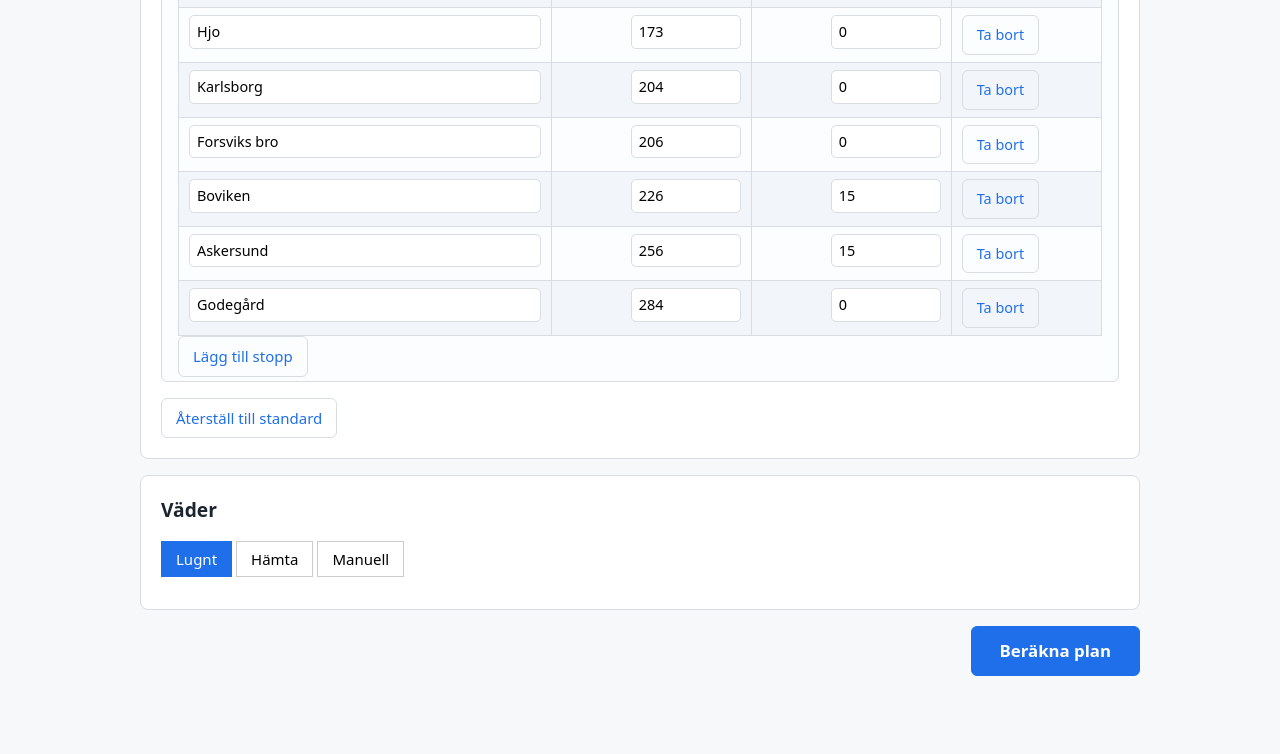
Scenario: App weather panel › shows the weather modes and a manual constant entry
The width and height of the screenshot is (1280, 754).
(page scrolled)
Click the button "Manuell" at x=361, y=559, box [317,541,404,577]
(page scrolled)
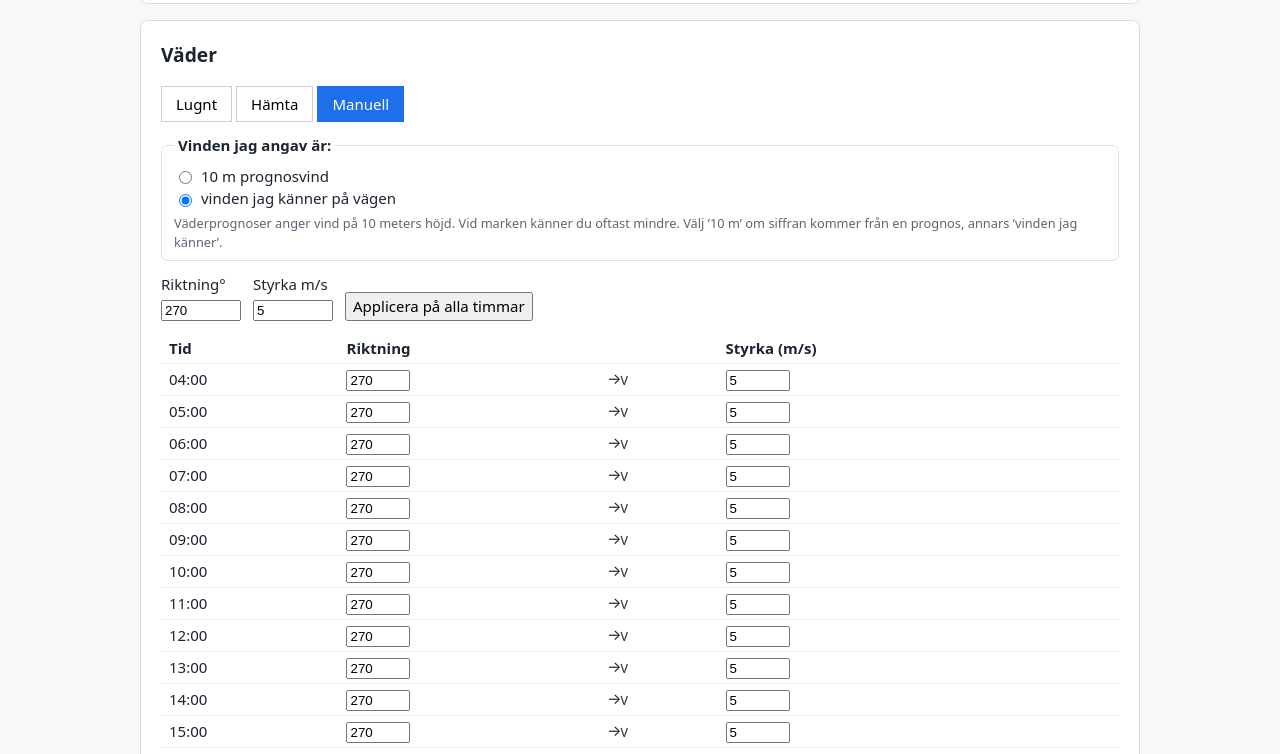
Expected: the button "Applicera på alla timmar" is shown, [345,292,533,321]
